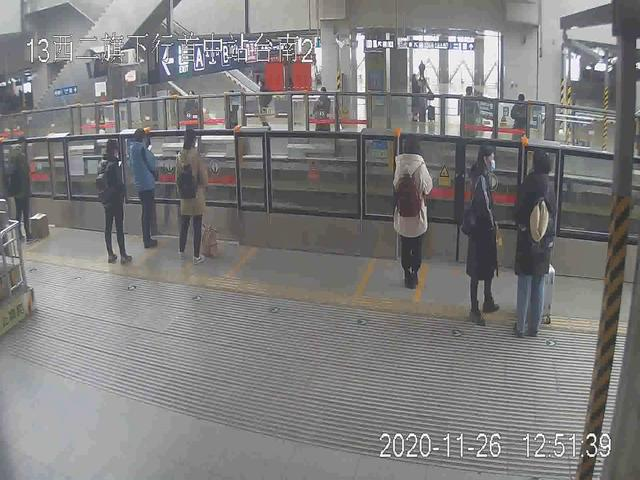person: (515, 145, 561, 334), (464, 145, 500, 327), (394, 133, 434, 292), (94, 138, 133, 265), (175, 128, 210, 261), (129, 129, 160, 248), (4, 137, 36, 245), (128, 129, 129, 130)
